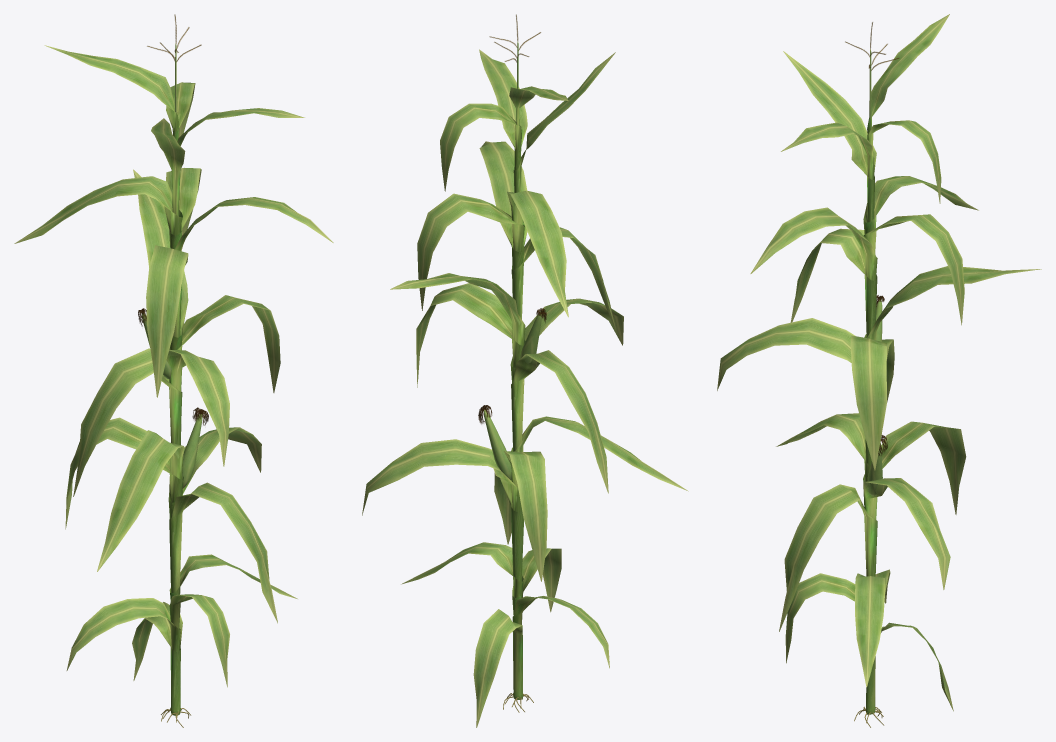
File: cana_maiz.glb
3 views of the same model, side by side, from view 1: azimuth 30°, elevation 25°; view 2: azimuth 150°, elevation 25°; view 3: azimuth 270°, elevation 25° (orthographic).
Visible parts, largest first — view 1: Plane.013, Plane.016, Plane.020, Plane.012, Plane.019, Plane.021, Plane.011, Plane.018, Plane.017, Plane.025, Plane.008, Plane.014 (+9 smaller); view 2: Plane.016, Plane.015, Plane.021, Plane.008, Plane.014, Plane.022, Plane.018, Plane.023, Plane.026, Plane.027, Plane.017, Plane.012 (+9 smaller); view 3: Plane.012, Plane.018, Plane.019, Plane.024, Plane.014, Plane.015, Plane.009, Plane.023, Plane.020, Plane.022, Plane.017, Plane.025 (+6 smaller).
Part boxes in pixels (x1,y1,x2,y2): Plane.013: (97, 430, 183, 571); Plane.016: (73, 348, 182, 496); Plane.020: (146, 245, 188, 397); Plane.012: (169, 482, 277, 623); Plane.019: (166, 350, 229, 466); Plane.021: (14, 176, 182, 243); Plane.011: (66, 598, 180, 670); Plane.018: (169, 295, 280, 392); Plane.017: (133, 169, 188, 349); Plane.025: (44, 45, 179, 131); Plane.008: (132, 602, 182, 715); Plane.014: (65, 417, 183, 529); Plane.016: (511, 350, 608, 493); Plane.015: (362, 439, 521, 515); Plane.021: (507, 190, 568, 317); Plane.008: (473, 609, 523, 727); Plane.014: (504, 451, 547, 581); Plane.022: (417, 193, 524, 310); Plane.018: (416, 283, 525, 387); Plane.023: (479, 141, 527, 269); Plane.026: (440, 103, 521, 191); Plane.027: (479, 49, 527, 170); Plane.017: (390, 273, 525, 345); Plane.012: (494, 473, 523, 581); Plane.012: (779, 484, 877, 631); Plane.018: (850, 335, 886, 470); Plane.019: (717, 318, 855, 390); Plane.024: (783, 51, 876, 222); Plane.014: (863, 421, 966, 514); Plane.015: (863, 478, 950, 589); Plane.009: (855, 573, 885, 687); Plane.023: (750, 207, 877, 280); Plane.020: (790, 228, 877, 336); Plane.022: (863, 214, 964, 325); Plane.017: (864, 266, 1041, 340); Plane.025: (867, 14, 949, 134).
Bounding box in the file's own units: 0.9752 × 2.65 × 1.11.
3 materials, 3 textured.
